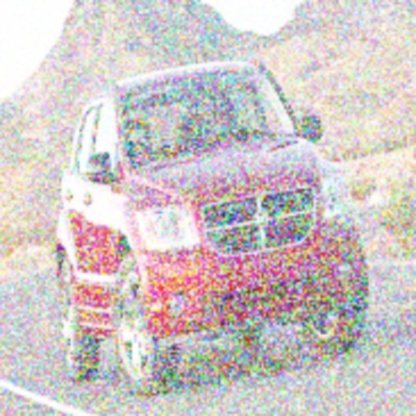Vehicle: (51, 57, 372, 400)
